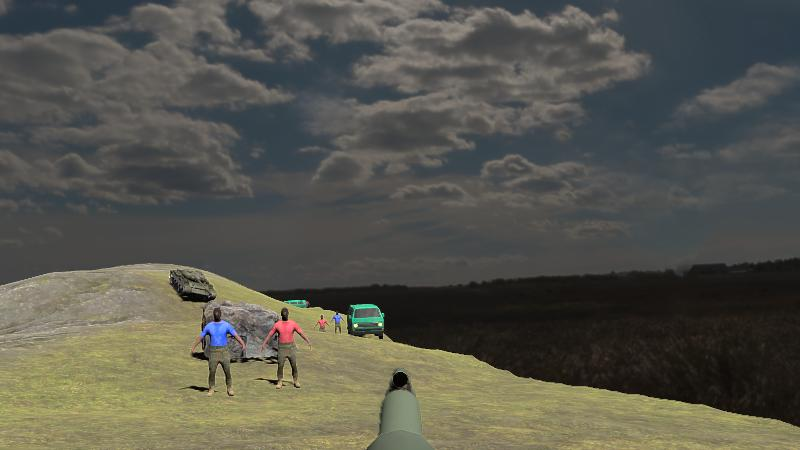Human: (192, 306, 246, 395), (263, 308, 311, 389)
Tank: (168, 265, 217, 303)
car: (347, 303, 385, 339)
